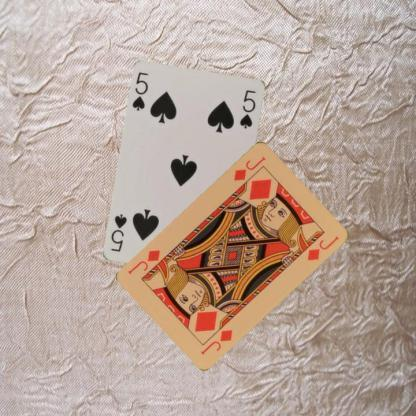5s: (129, 70, 150, 113)
Jd: (230, 153, 268, 182), (198, 326, 234, 356)
